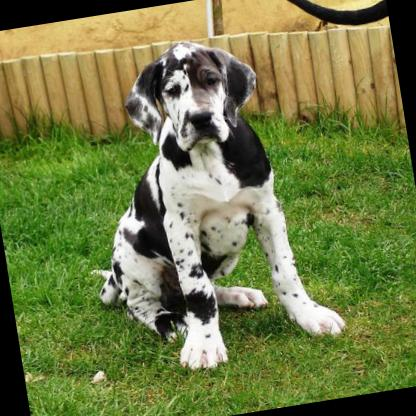Great_Dane: (58, 24, 346, 384)
